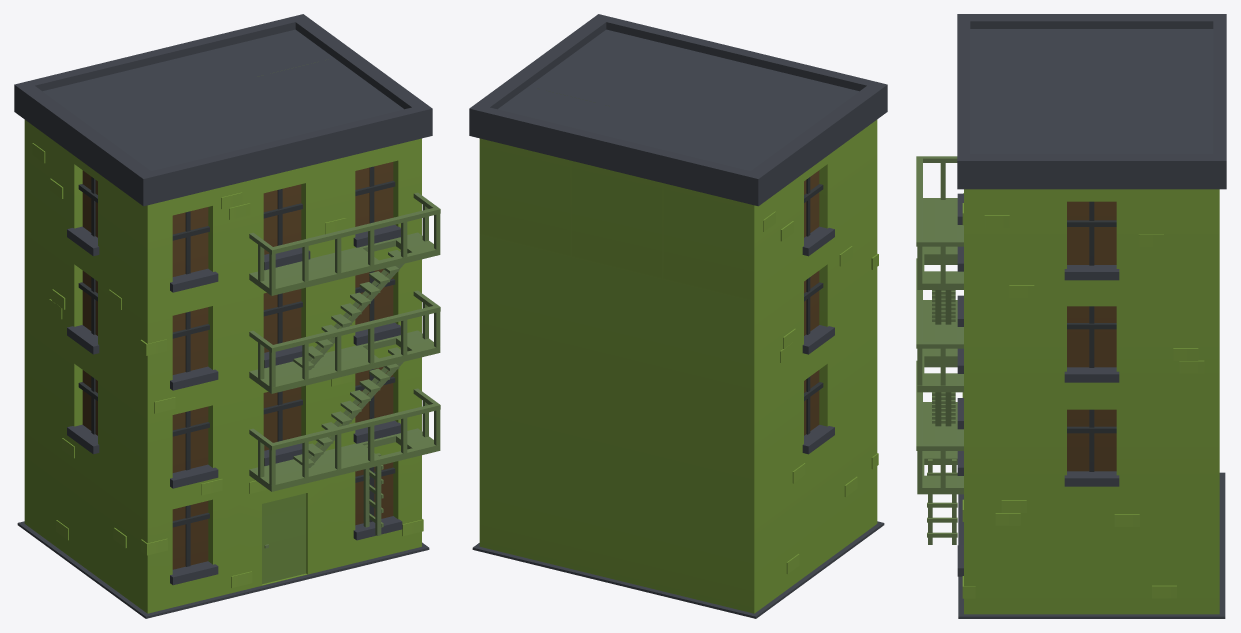
File: House_07.fbx
3 views of the same model, side by side, from view 1: azimuth 30°, elevation 25°; view 2: azimuth 150°, elevation 25°; view 3: azimuth 270°, elevation 25° (orthographic). The views are drawn at different scales.
Parts seen in each view (by area): view 1: House_07; view 2: House_07; view 3: House_07.
Boxes of the visible parts, box(x1,y1,x2,y2) form: House_07: box(14, 14, 440, 618); House_07: box(469, 14, 887, 618); House_07: box(916, 14, 1226, 618).
Size of the model in its own units: 7.14 by 10.41 by 6.37.
